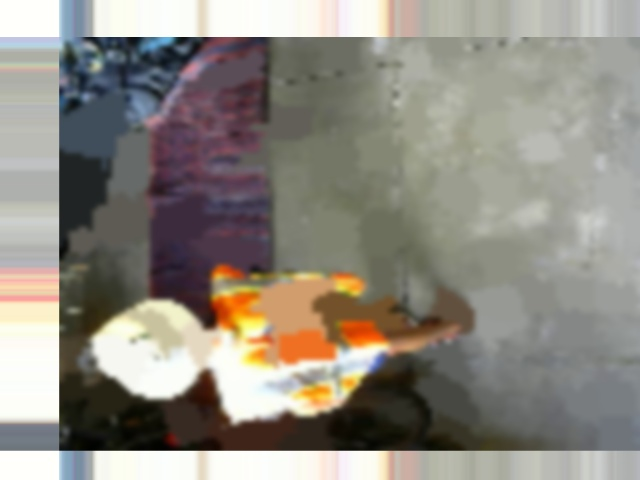two: (123, 334, 167, 371)
